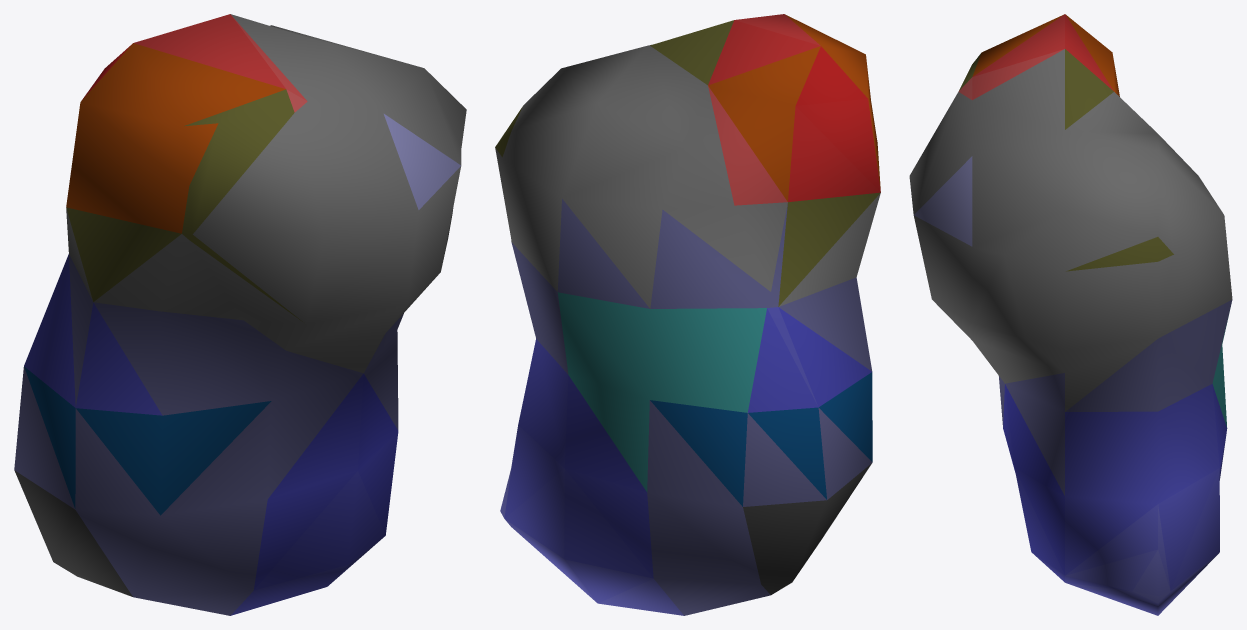
The model's file is guanine_surface_lowres.obj.
3 renders of one model, left to right at view 1: azimuth 30°, elevation 25°; view 2: azimuth 150°, elevation 25°; view 3: azimuth 270°, elevation 25°, orthographic. The views are drawn at different scales.
Parts seen in each view (by area): view 1: vmd_mol4_rep0; view 2: vmd_mol4_rep0; view 3: vmd_mol4_rep0.
Boxes of the visible parts, x1,y1,x2,y2 form: vmd_mol4_rep0: [14, 14, 466, 615]; vmd_mol4_rep0: [495, 14, 880, 615]; vmd_mol4_rep0: [909, 14, 1232, 615].
Bounding box in the file's own units: 1.15 × 1.75 × 0.9682.
